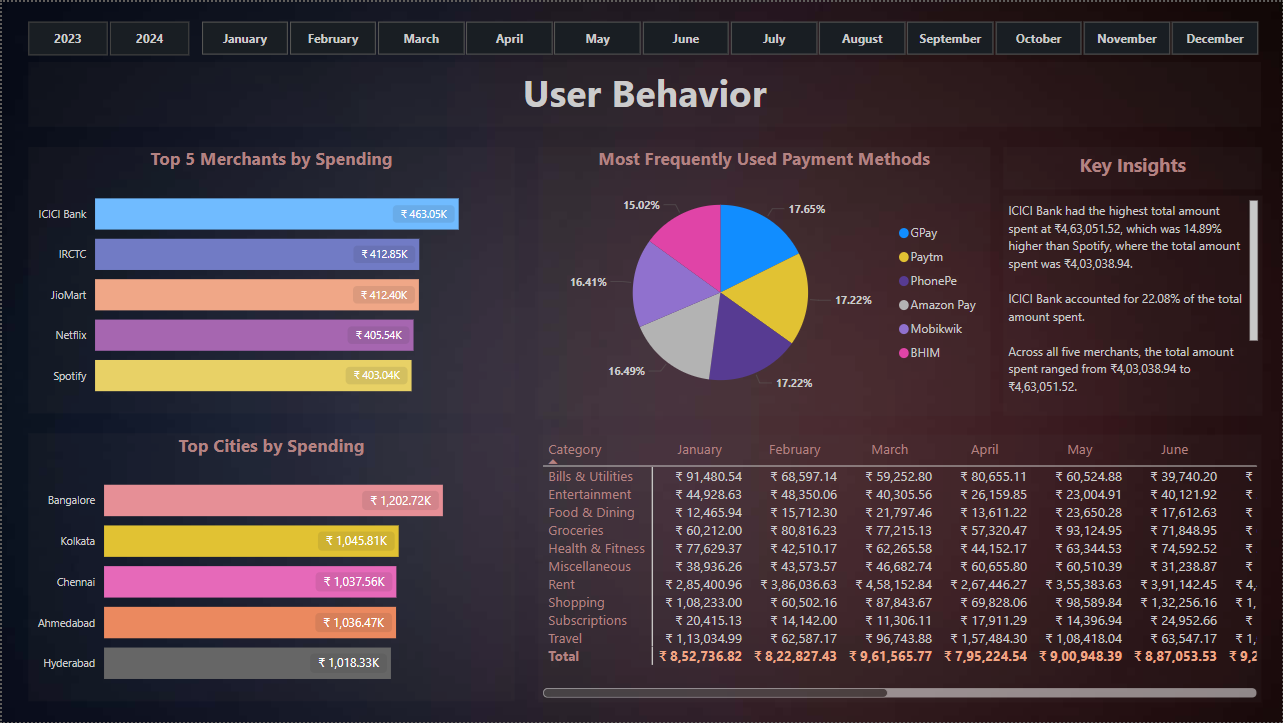

This screenshot's page, from the dashboard's own definition file:
{"tool":"powerbi","page":{"name":"User behaviour","canvas":[1280,720],"ordinal":2},"visuals":[{"type":"slicer","fields":{"Values":["Final_Dataset_Updated.Month"]},"box":[173.7,12.1,1106.3,47.1],"z":0},{"type":"slicer","fields":{"Values":["Final_Dataset_Updated.Year"]},"box":[0,12.2,211.6,47.7],"z":1000},{"type":"textbox","box":[26.2,59.8,1233,65.1],"z":2000},{"type":"barChart","title":"Top 5 Merchants by Spending","fields":{"Category":["Final_Dataset_Updated.Merchant_Name"],"Y":["Sum(Final_Dataset_Updated.Amount)"]},"box":[26.7,145,486.7,266.7],"z":3000},{"type":"barChart","title":"Top Cities by Spending","fields":{"Category":["Final_Dataset_Updated.Location"],"Y":["Sum(Final_Dataset_Updated.Amount)"]},"box":[26.7,431.7,486.7,268.3],"z":4000},{"type":"pieChart","title":" Most Frequently Used Payment Methods","fields":{"Category":["Final_Dataset_Updated.Payment_Mode"],"Y":["CountNonNull(Final_Dataset_Updated.Transaction_ID)"]},"box":[535.6,144.8,451.7,269],"z":5000},{"type":"textbox","box":[1001.2,193.5,259.4,220.2],"z":6000},{"type":"textbox","box":[1001.1,144.8,258.6,42.5],"z":7000},{"type":"pivotTable","fields":{"Rows":["Final_Dataset_Updated.Category"],"Columns":["Final_Dataset_Updated.Month"],"Values":["Sum(Final_Dataset_Updated.Amount)"]},"box":[535.7,431.9,723.6,267.8],"z":8000}]}

Visuals, with their boxes in screenshot pixels (x1, y1, x2, y2), scaled from the page's 1280x720 canvas onto the 1283x723 screenshot:
slicer - Final_Dataset_Updated.Month: 174,12,1282,59
slicer - Final_Dataset_Updated.Year: 0,12,212,60
textbox: 26,60,1262,125
"Top 5 Merchants by Spending" barChart: 27,146,515,413
"Top Cities by Spending" barChart: 27,433,515,703
" Most Frequently Used Payment Methods" pieChart: 537,145,990,416
textbox: 1004,194,1264,415
textbox: 1003,145,1263,188
pivotTable - Final_Dataset_Updated.Category x Final_Dataset_Updated.Month: 537,434,1262,703
